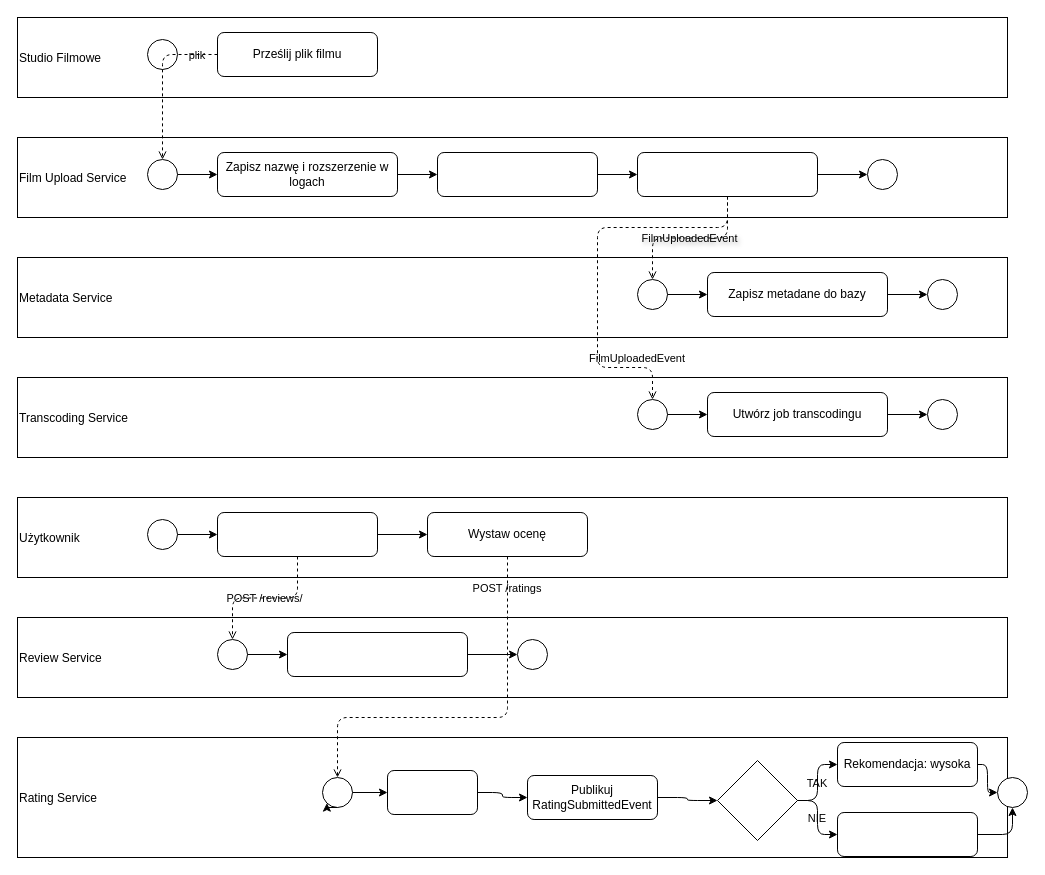
Some shapes in this 1045 by 875 pixel diagram are drawn without their labels. The shapes that lost their labels are listed below. From the top down, each one's centre as x and y in pixels, then its label:
At [517,174]: "Zapisz film do bazy".
At [727,174]: "Publikuj FilmUploadedEvent".
At [297,534]: "Napisz recenzję".
At [377,654]: "Zapisz recenzję do bazy".
At [432,792]: "Zapisz ocenę do bazy".
At [757,800]: "Ocena >= 7.0?".
At [907,834]: "Rekomendacja: umiarkowana".
